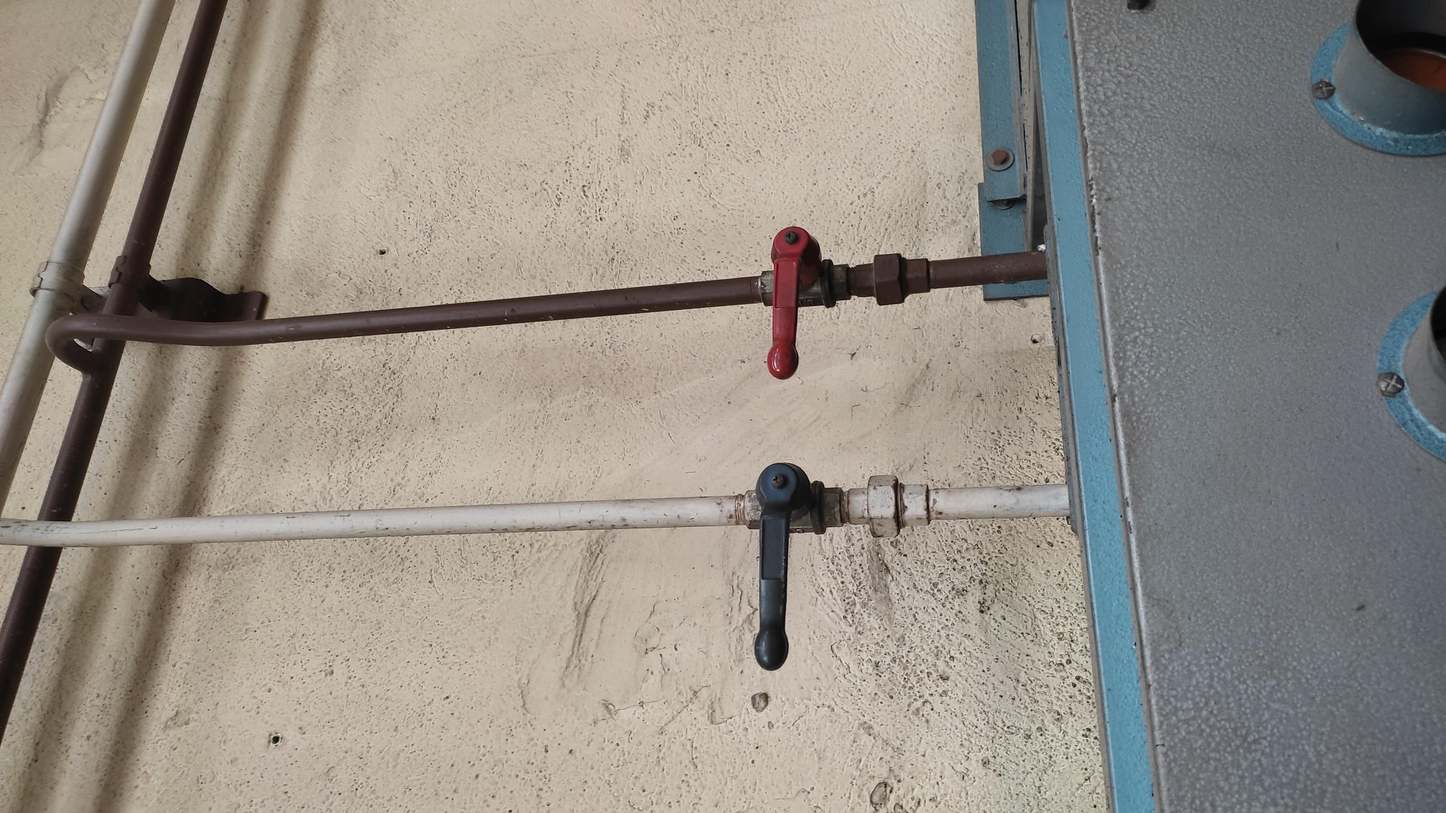closed valve: (742, 460, 844, 673), (756, 222, 854, 382)
